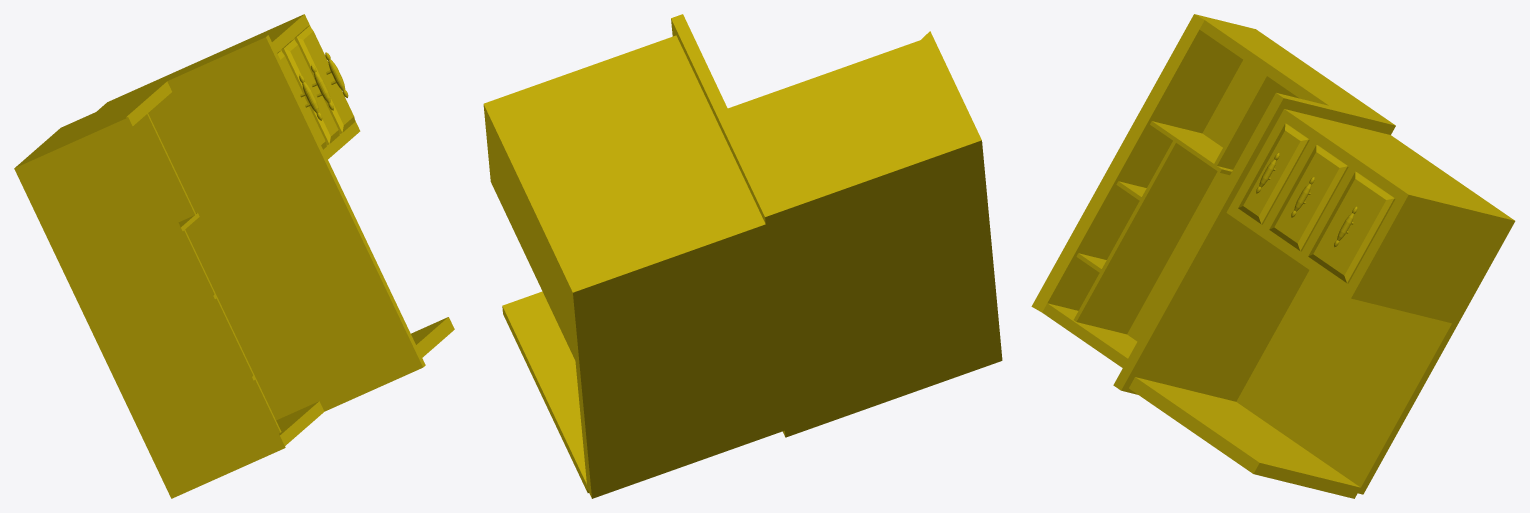
The model's file is C_DESK.glb.
3 views of the same model, side by side, from view 1: azimuth 30°, elevation 25°; view 2: azimuth 150°, elevation 25°; view 3: azimuth 270°, elevation 25° (orthographic). The views are drawn at different scales.
Parts seen in each view (by area): view 1: _0; view 2: _0; view 3: _0.
Boxes of the visible parts, x1,y1,x2,y2 form: _0: (14, 14, 454, 498); _0: (483, 14, 1002, 498); _0: (1031, 14, 1515, 498).
Bounding box in the file's own units: 10.08 × 9.16 × 10.41.
